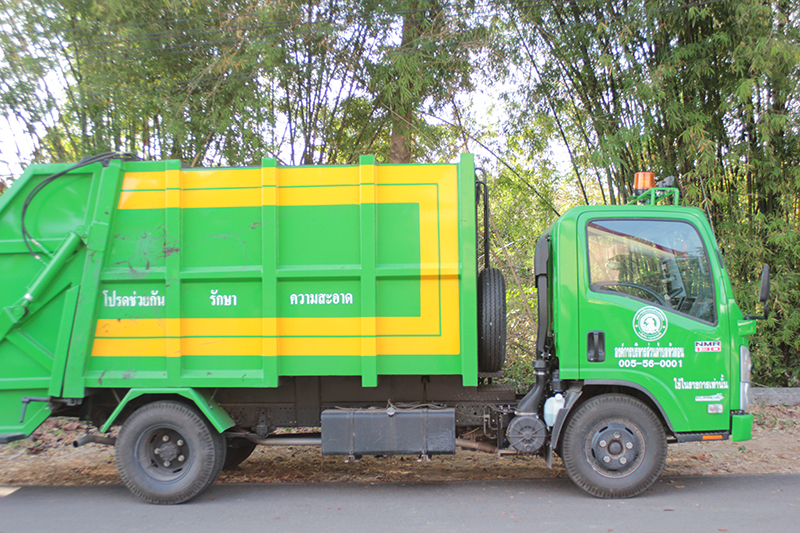truck: (1, 151, 757, 505)
